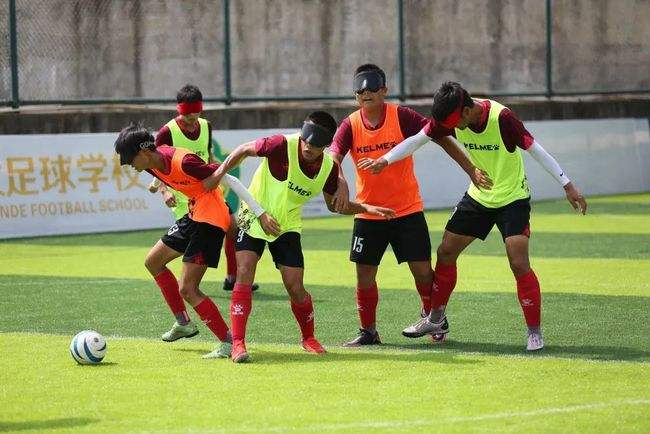football: (71, 329, 109, 367)
